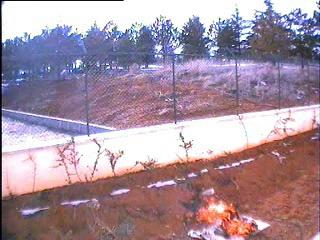fire: (187, 196, 259, 237)
